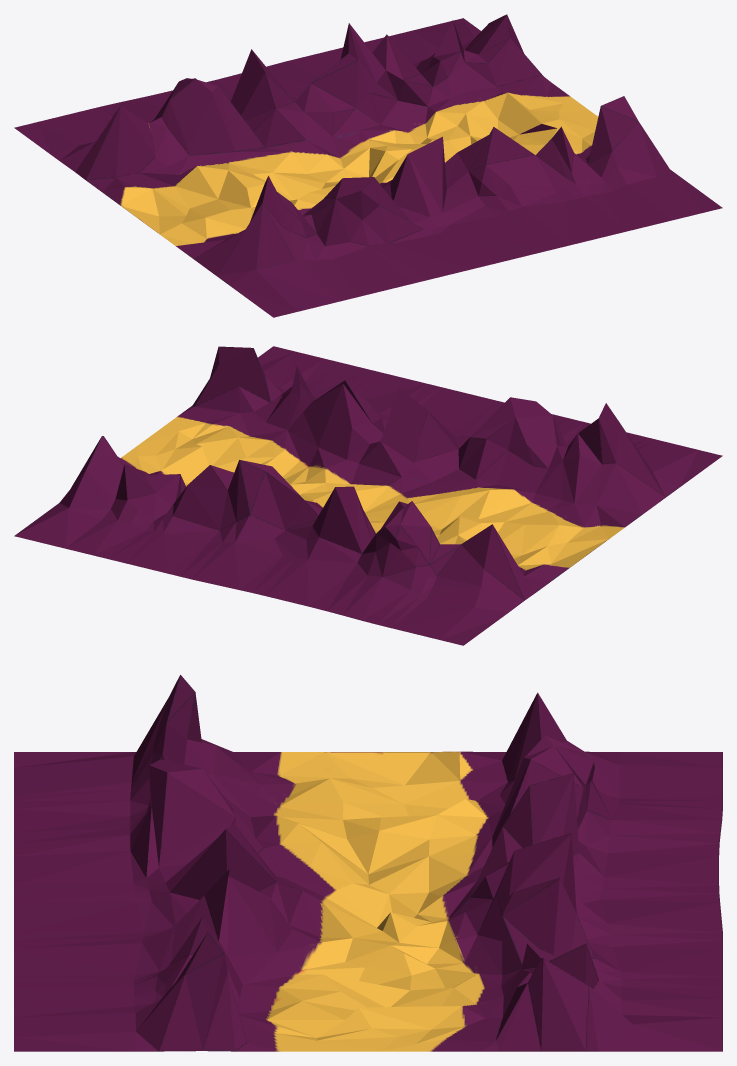
File: Floor_tile_1_crease.FBX
3 renders of one model, top to bottom at view 1: azimuth 30°, elevation 25°; view 2: azimuth 150°, elevation 25°; view 3: azimuth 270°, elevation 25°, orthographic. The views are drawn at different scales.
Parts seen in each view (by area): view 1: RyansTestMesh2; view 2: RyansTestMesh2; view 3: RyansTestMesh2.
Part boxes in pixels (x1,y1,x2,y2): RyansTestMesh2: (14,14,722,317); RyansTestMesh2: (14,346,722,645); RyansTestMesh2: (14,675,722,1051).
Size of the model in its own units: 4000 by 883 by 4000.
